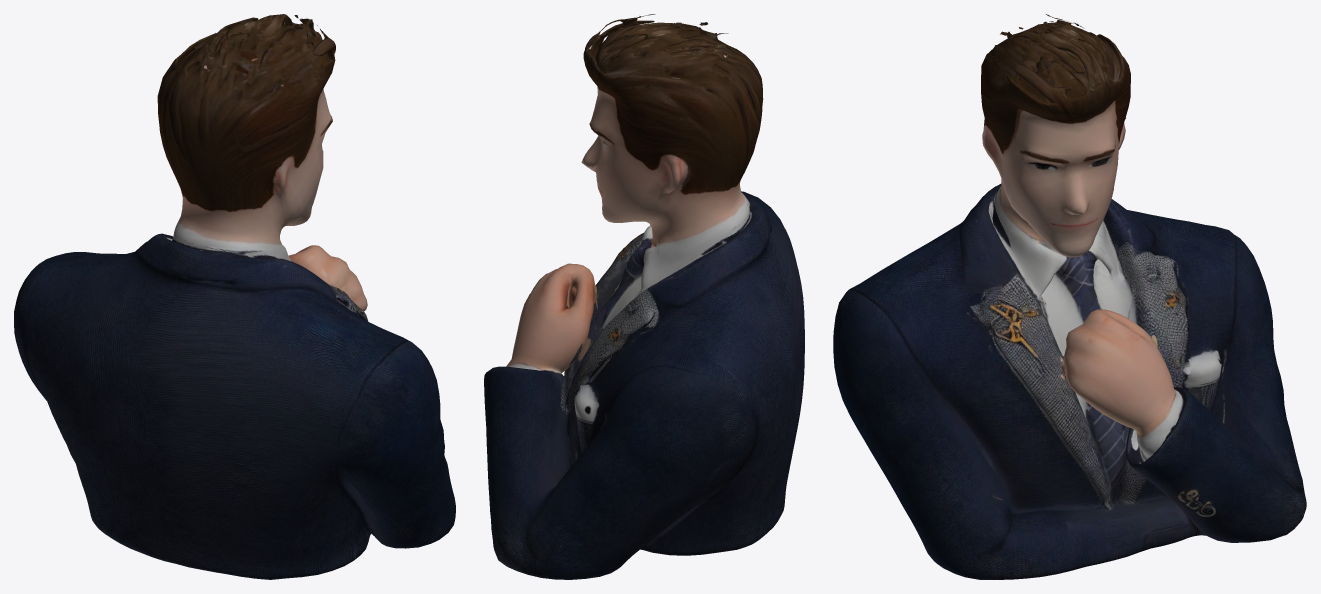
Rendered from suspect_3.glb.
3 renders of one model, left to right at view 1: azimuth 30°, elevation 25°; view 2: azimuth 150°, elevation 25°; view 3: azimuth 270°, elevation 25°, orthographic. The views are drawn at different scales.
Visible parts, largest first — view 1: tripo_node_b61e305d-748c-4132-bbde-8b821919aeb2; view 2: tripo_node_b61e305d-748c-4132-bbde-8b821919aeb2; view 3: tripo_node_b61e305d-748c-4132-bbde-8b821919aeb2.
Part boxes in pixels (<box>): tripo_node_b61e305d-748c-4132-bbde-8b821919aeb2: <box>14,14,455,579</box>; tripo_node_b61e305d-748c-4132-bbde-8b821919aeb2: <box>484,14,804,579</box>; tripo_node_b61e305d-748c-4132-bbde-8b821919aeb2: <box>833,14,1306,579</box>.
Size of the model in its own units: 0.6798 by 0.999 by 0.8972.
1 material, 1 textured.
